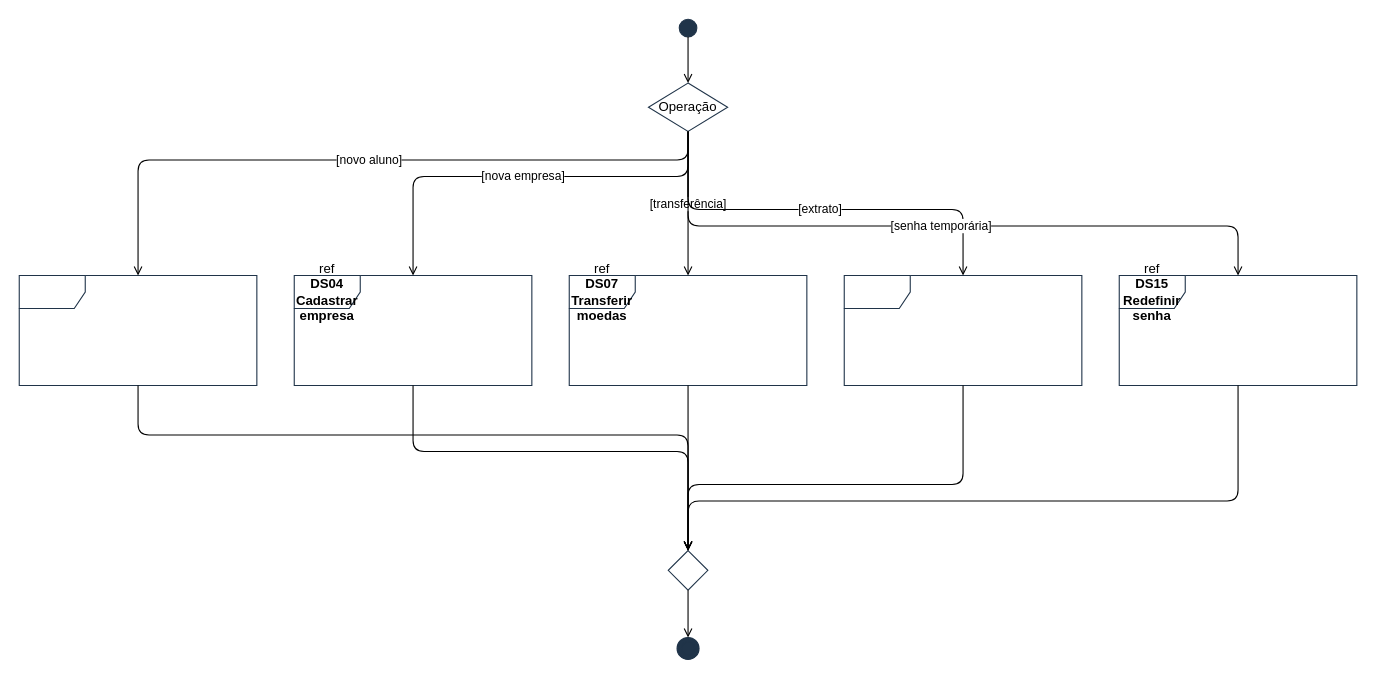
The diagram is 1376 pixels wide and 679 high, and some of its shapes have lost their labels. Here are the shapes that lost their labels. From the top down, the box of each, then its label:
(18, 274, 257, 386): ref DS02 Cadastrar aluno
(843, 274, 1082, 386): ref DS08 Consultar extrato
